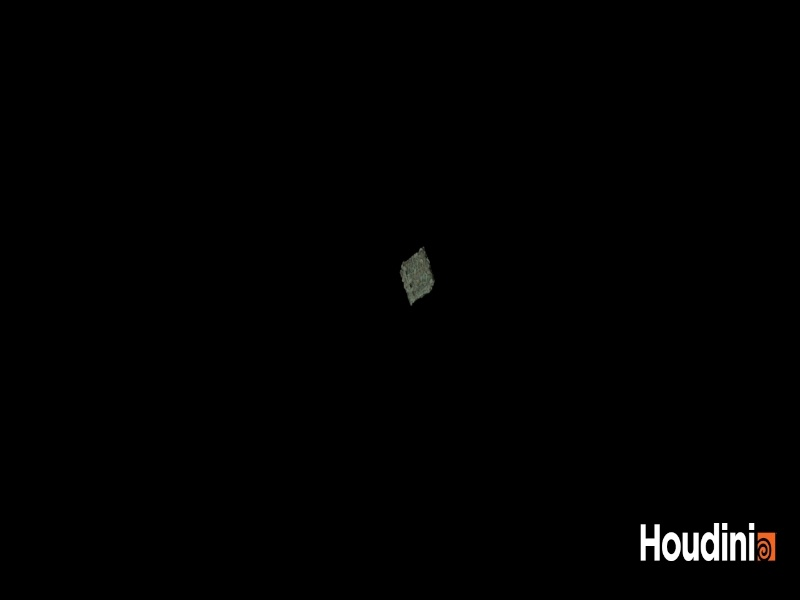waste: (395, 239, 449, 315)
